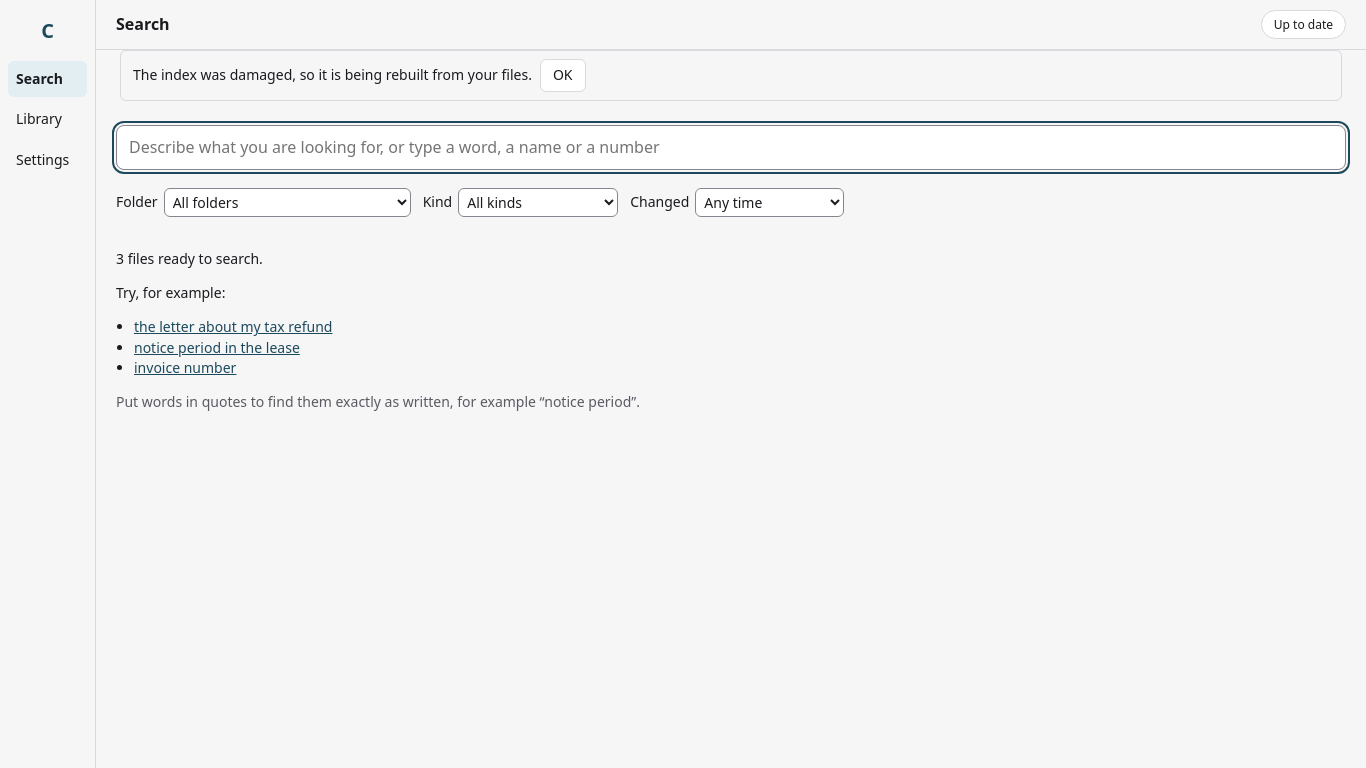
Test: the window › keeps a notice from the start on screen until it is closed
Expected: the message shows "The index was damaged, so it is being rebuilt from your files.", [133,65,532,84]
Click the button "OK": x=563, y=76 [540,59,586,92]
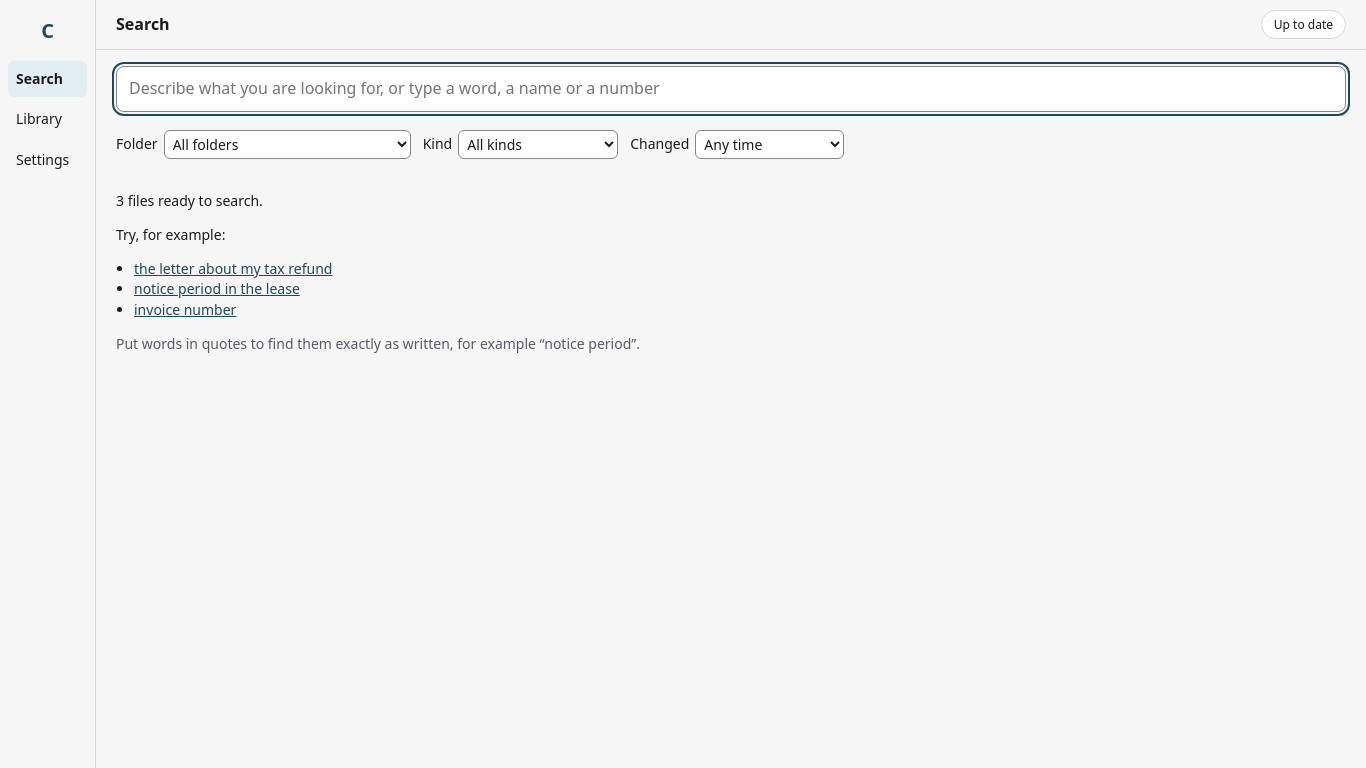
Now the message "The index was damaged, so it is being rebuilt from your files. OK" is gone
